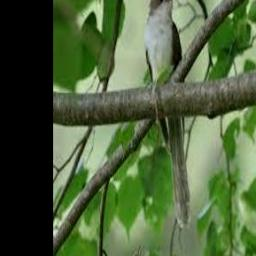Cuckoo: (144, 0, 190, 229)
